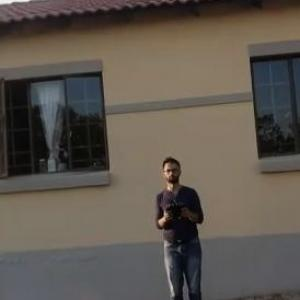follow: (151, 151, 210, 299)
